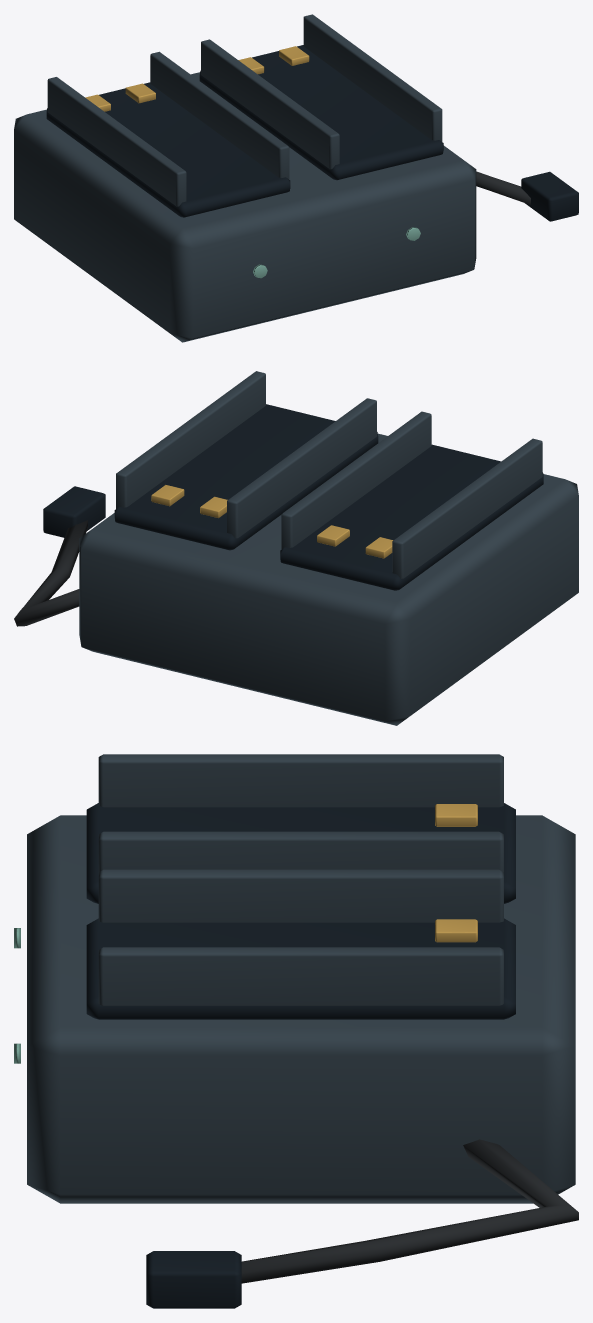
The model's file is P064_battery_charger_rebuilt.glb.
3 renders of one model, top to bottom at view 1: azimuth 30°, elevation 25°; view 2: azimuth 150°, elevation 25°; view 3: azimuth 270°, elevation 25°, orthographic. The views are drawn at different scales.
Parts seen in each view (by area): view 1: shell, dark, gold, rubber; view 2: shell, dark, rubber, gold; view 3: shell, dark, rubber, gold.
Boxes of the visible parts, box(x1,y1,x2,y2) form: shell: box(14, 14, 476, 342); dark: box(46, 45, 578, 221); gold: box(85, 46, 309, 111); rubber: box(476, 171, 530, 204); shell: box(79, 371, 578, 725); dark: box(43, 404, 543, 590); rubber: box(14, 520, 87, 626); gold: box(151, 485, 393, 558); shell: box(27, 754, 575, 1203); dark: box(86, 803, 515, 1308); rubber: box(241, 1139, 578, 1283); gold: box(435, 804, 477, 942).
Size of the model in its own units: 0.24 by 0.0825 by 0.173.
